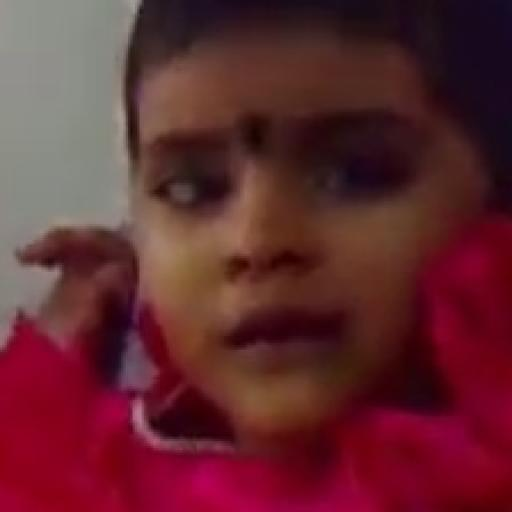Autism: (59, 20, 502, 487)
